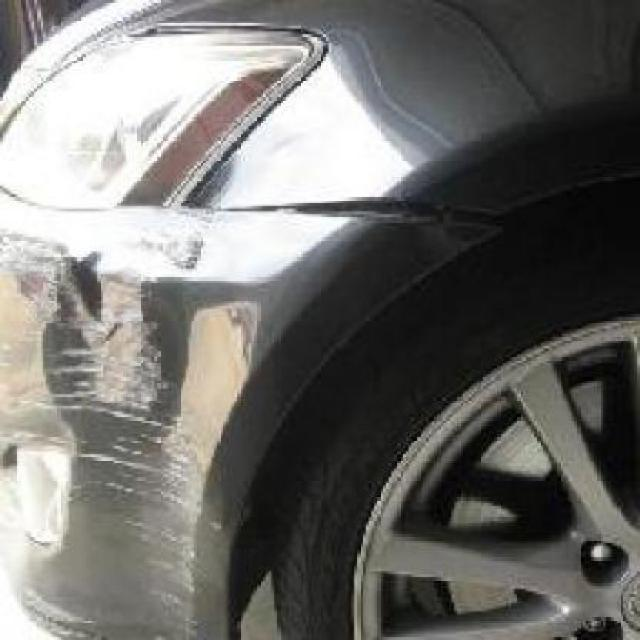dent-or-scratch: (2, 196, 232, 619)
